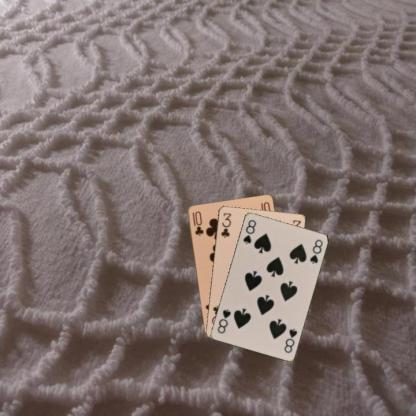10c: (190, 208, 204, 237)
3c: (218, 209, 233, 238)
8s: (240, 217, 257, 245), (282, 326, 298, 353)
